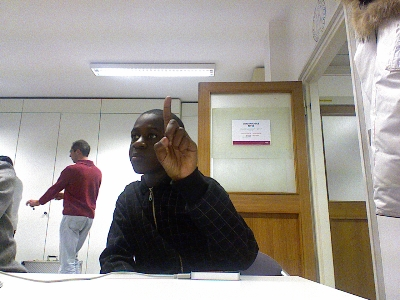食指: (152, 95, 197, 180)
